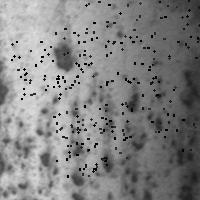pitted_surface: (66, 66, 197, 192), (1, 90, 64, 199), (56, 108, 115, 168), (11, 41, 71, 98), (55, 28, 112, 87), (77, 104, 129, 164), (121, 77, 176, 133), (113, 35, 163, 94), (53, 116, 102, 175), (154, 0, 200, 57), (82, 0, 140, 45), (155, 94, 200, 149), (51, 38, 78, 74)
